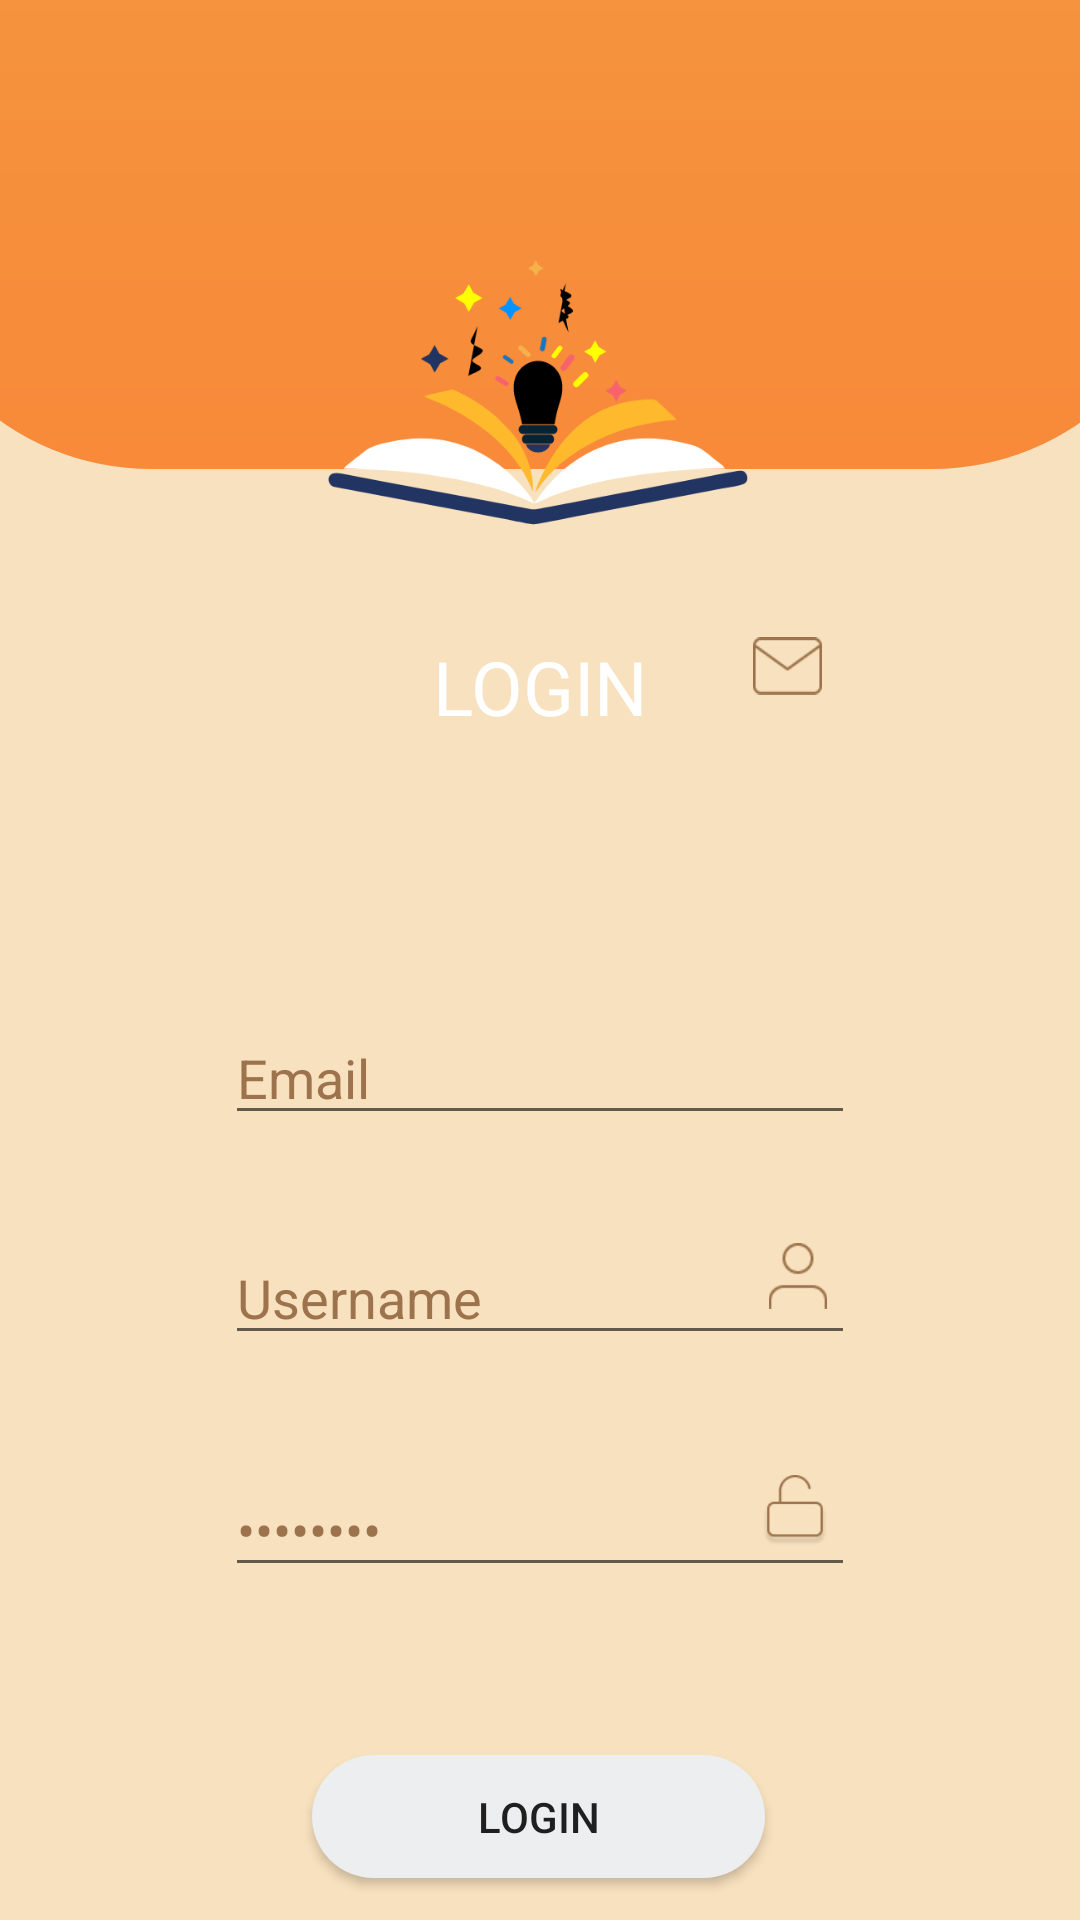

Icons on this 1080x1920 Android screen, each with the point to tap as (x,y):
lock: (795,1508)
